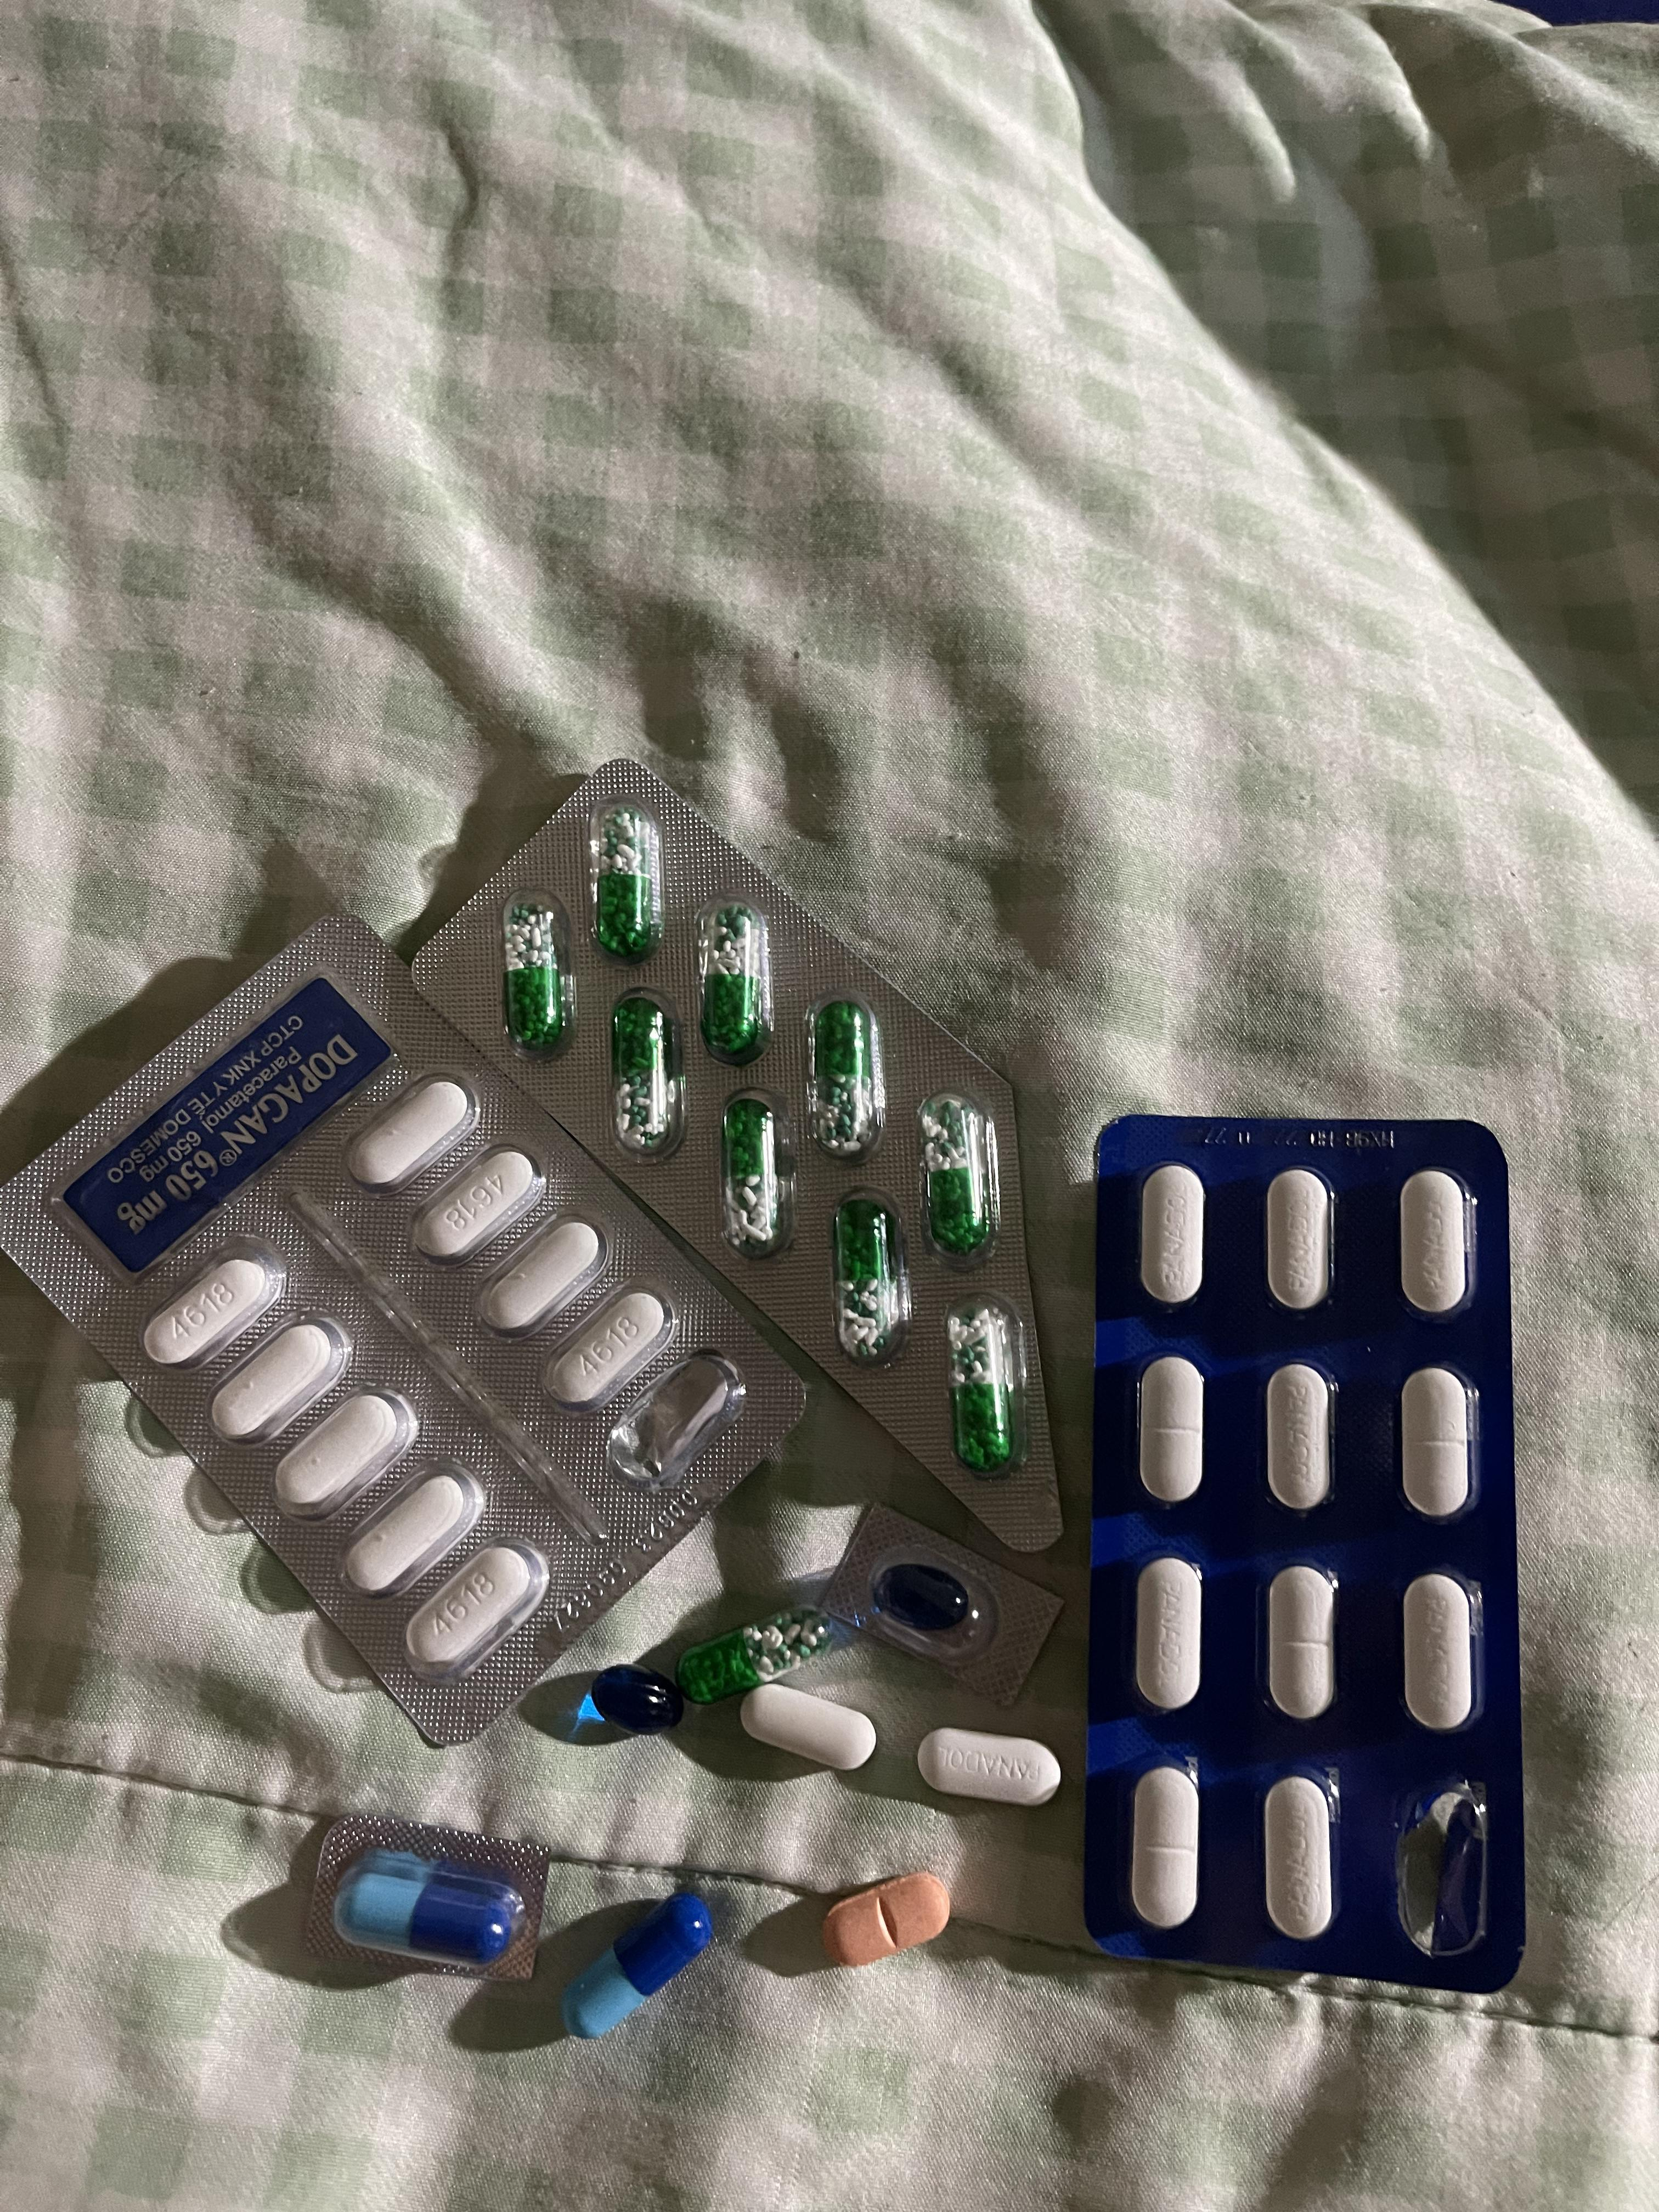Lincomyxin_500mg: (587, 1663, 687, 1737), (875, 1562, 972, 1630)
Loratadine_10mg: (823, 1871, 953, 1966)
Paracetamol_350mg: (1403, 1573, 1481, 1733), (1265, 1773, 1337, 1942), (1129, 1764, 1199, 1933), (1267, 1564, 1340, 1723), (1403, 1367, 1478, 1521), (918, 1728, 1060, 1806), (1134, 1557, 1204, 1714), (1399, 1170, 1473, 1315), (1267, 1366, 1335, 1514), (1138, 1357, 1206, 1505), (1267, 1170, 1333, 1310), (1141, 1165, 1206, 1306)
Paracetamol_500mg: (272, 1379, 415, 1524), (404, 1540, 547, 1677), (211, 1312, 349, 1444), (143, 1242, 284, 1371), (540, 1280, 671, 1407), (342, 1468, 474, 1594), (408, 1146, 540, 1264), (476, 1217, 603, 1336), (347, 1076, 472, 1190), (739, 1683, 873, 1770)
Paracetamol_650mg: (674, 1604, 840, 1703), (920, 1092, 988, 1256), (948, 1310, 1012, 1472), (835, 1198, 896, 1360), (596, 810, 657, 960), (702, 907, 762, 1057), (812, 1003, 873, 1146), (505, 902, 565, 1045), (612, 1000, 671, 1143), (723, 1103, 779, 1247)
pill: (558, 1890, 713, 2040), (338, 1857, 519, 1965)
